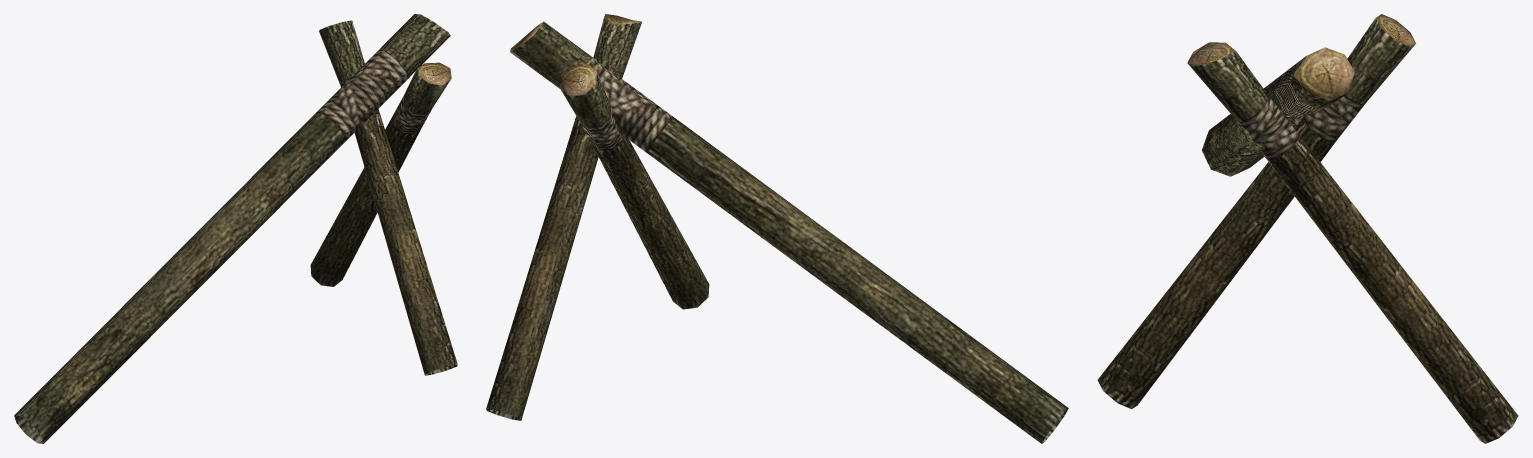
File: thing_barricade_01.fbx
3 views of the same model, side by side, from view 1: azimuth 30°, elevation 25°; view 2: azimuth 150°, elevation 25°; view 3: azimuth 270°, elevation 25° (orthographic). The views are drawn at different scales.
Visible parts, largest first — view 1: thing_wood barricade_01; view 2: thing_wood barricade_01; view 3: thing_wood barricade_01.
Boxes of the visible parts, x1,y1,x2,y2 form: thing_wood barricade_01: [14, 14, 457, 443]; thing_wood barricade_01: [486, 14, 1068, 443]; thing_wood barricade_01: [1097, 14, 1518, 443].
Size of the model in its own units: 2.12 by 1.34 by 1.24.
